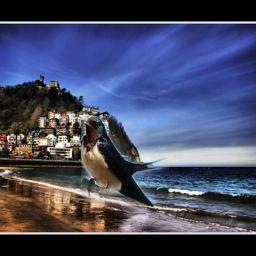Swallow: (81, 116, 192, 207)
